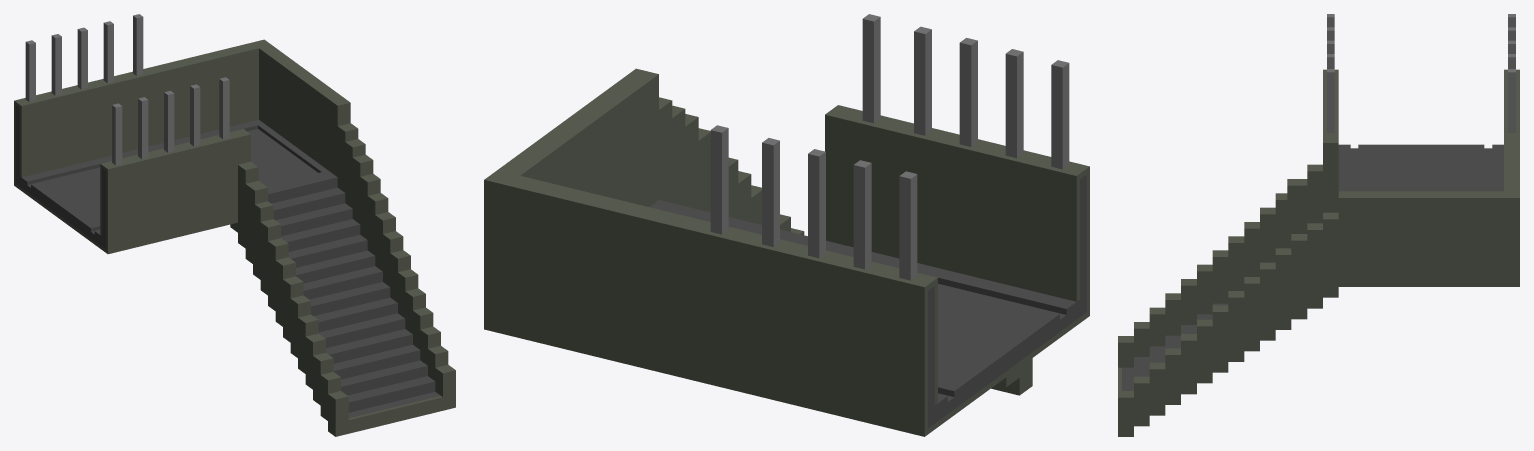
The model's file is Bridge-0.obj.
3 views of the same model, side by side, from view 1: azimuth 30°, elevation 25°; view 2: azimuth 150°, elevation 25°; view 3: azimuth 270°, elevation 25° (orthographic). The views are drawn at different scales.
Size of the model in its own units: 7.7 by 8.4 by 10.2.
1 material, 1 textured.
